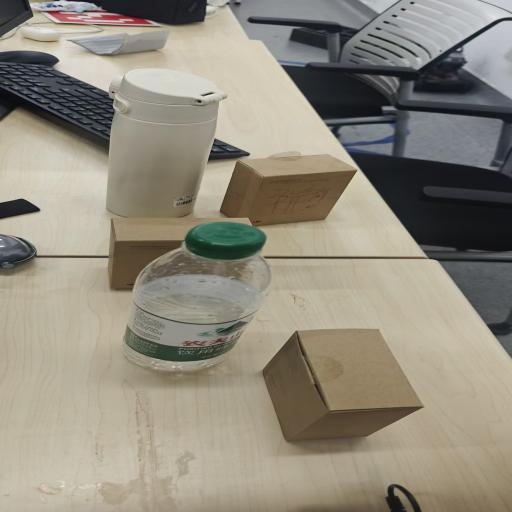bottle: (123, 222, 270, 372), (106, 68, 226, 218)
box: (263, 329, 423, 442), (107, 216, 252, 290), (220, 154, 356, 227)
